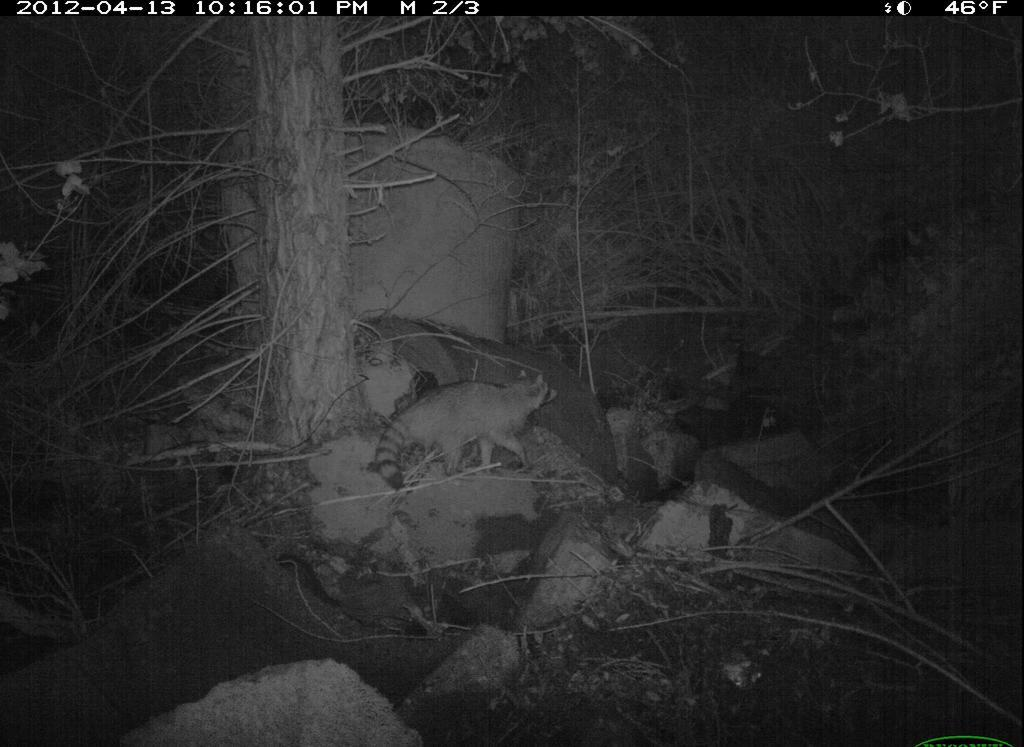raccoon: (376, 365, 569, 500)
